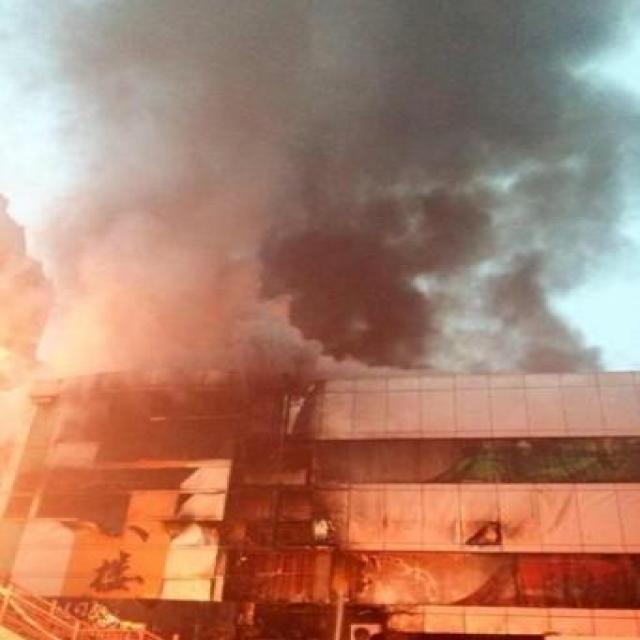smoke: (48, 12, 573, 350)
